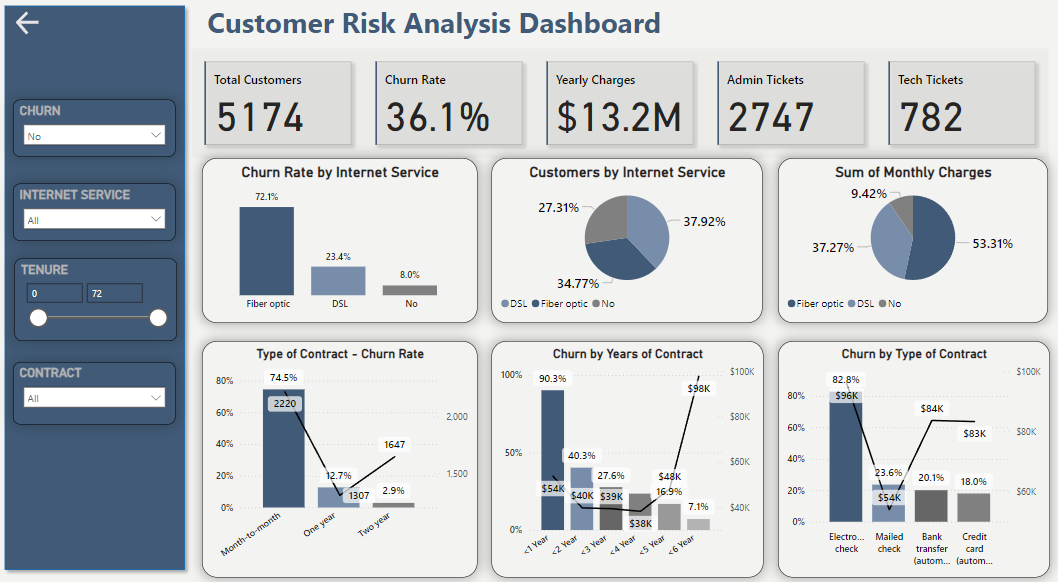

The dashboard page shown, as its layout file describes it:
{"tool":"powerbi","page":{"name":"CR","canvas":[1416,786],"ordinal":2},"visuals":[{"type":"cardVisual","fields":{"Data":["CountNonNull(01 Churn-Dataset.customerID)","Measures (2).Churn Rate %","Sum(01 Churn-Dataset.TotalCharges)","Sum(01 Churn-Dataset.numAdminTickets)","Sum(01 Churn-Dataset.numTechTickets)"]},"box":[257.5,65,1142.5,145],"z":0},{"type":"clusteredColumnChart","title":"Churn Rate by Internet Service","fields":{"Category":["01 Churn-Dataset.InternetService"],"Y":["Measures (2).Churn Rate %"]},"box":[272.5,212.5,367.5,220],"z":1000},{"type":"shape","box":[0,0,258,770],"z":2000},{"type":"pieChart","title":"Customers by Internet Service","fields":{"Category":["01 Churn-Dataset.InternetService"],"Y":["CountNonNull(01 Churn-Dataset.customerID)"]},"box":[658.6,212.9,361.4,220],"z":3000},{"type":"pieChart","title":"Sum of Monthly Charges ","fields":{"Category":["01 Churn-Dataset.InternetService"],"Y":["Sum(01 Churn-Dataset.MonthlyCharges)"]},"box":[1040,212,360,220],"z":4000},{"type":"lineStackedColumnComboChart","title":"Type of Contract - Churn Rate","fields":{"Category":["01 Churn-Dataset.Contract"],"Y2":["CountNonNull(01 Churn-Dataset.customerID)"],"Y":["Measures (2).Churn Rate %"]},"box":[272.5,455,367.5,315],"z":5000},{"type":"lineStackedColumnComboChart","title":"Churn by Years of Contract ","fields":{"Category":["01 Churn-Dataset.Tenure(Years)"],"Y2":["Sum(01 Churn-Dataset.MonthlyCharges)"],"Y":["Measures (2).Churn Rate %"]},"box":[657.5,455,362.5,315],"z":6000},{"type":"lineStackedColumnComboChart","title":"Churn by Type of Contract ","fields":{"Y2":["Sum(01 Churn-Dataset.MonthlyCharges)"],"Y":["Measures (2).Churn Rate %"],"Category":["01 Churn-Dataset.PaymentMethod"]},"box":[1040,455,362.5,315],"z":7000},{"type":"slicer","title":"CHURN","fields":{"Values":["01 Churn-Dataset.Churn"]},"box":[20,133.3,216.7,76.7],"z":8000},{"type":"slicer","title":"INTERNET SERVICE","fields":{"Values":["01 Churn-Dataset.InternetService"]},"box":[20,245,216.7,76.7],"z":9000},{"type":"slicer","title":"TENURE","fields":{"Values":["01 Churn-Dataset.tenure"]},"box":[21.7,345,216.7,110],"z":10000},{"type":"slicer","title":"CONTRACT","fields":{"Values":["01 Churn-Dataset.Contract"]},"box":[20,483.3,216.7,83.3],"z":11000},{"type":"textbox","box":[273.3,0,1106.7,63.3],"z":11001},{"type":"actionButton","box":[20,11.7,48.3,40],"z":11002}]}

Visuals, with their boxes on the page's 1416x786 design canvas (x1, y1, x2, y2). These are canvas units, not pixel positions in the 1058x582 screenshot, which may show the page scaled, cropped or inside an application window:
cardVisual - CountNonNull(01 Churn-Dataset.customerID) x Measures (2).Churn Rate %: left=258, top=65, right=1400, bottom=210
"Churn Rate by Internet Service" clusteredColumnChart: left=272, top=212, right=640, bottom=432
shape: left=0, top=0, right=258, bottom=770
"Customers by Internet Service" pieChart: left=659, top=213, right=1020, bottom=433
"Sum of Monthly Charges " pieChart: left=1040, top=212, right=1400, bottom=432
"Type of Contract - Churn Rate" lineStackedColumnComboChart: left=272, top=455, right=640, bottom=770
"Churn by Years of Contract " lineStackedColumnComboChart: left=658, top=455, right=1020, bottom=770
"Churn by Type of Contract " lineStackedColumnComboChart: left=1040, top=455, right=1402, bottom=770
"CHURN" slicer: left=20, top=133, right=237, bottom=210
"INTERNET SERVICE" slicer: left=20, top=245, right=237, bottom=322
"TENURE" slicer: left=22, top=345, right=238, bottom=455
"CONTRACT" slicer: left=20, top=483, right=237, bottom=567
textbox: left=273, top=0, right=1380, bottom=63
actionButton: left=20, top=12, right=68, bottom=52
